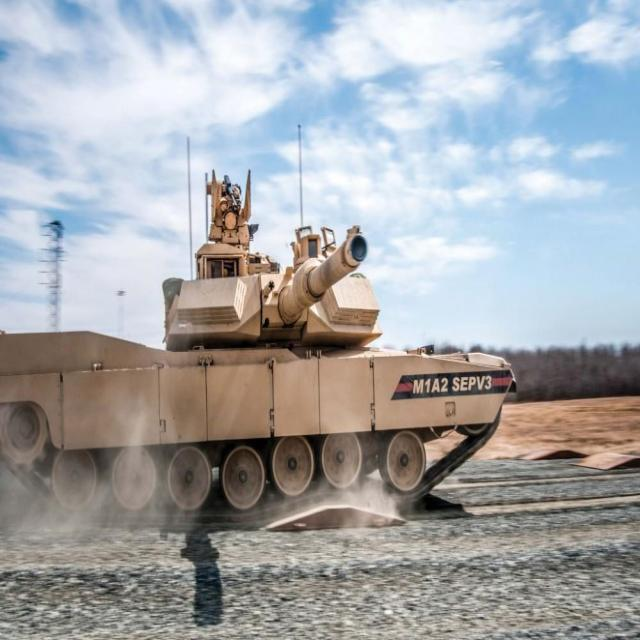Tanks: (1, 164, 523, 525)
